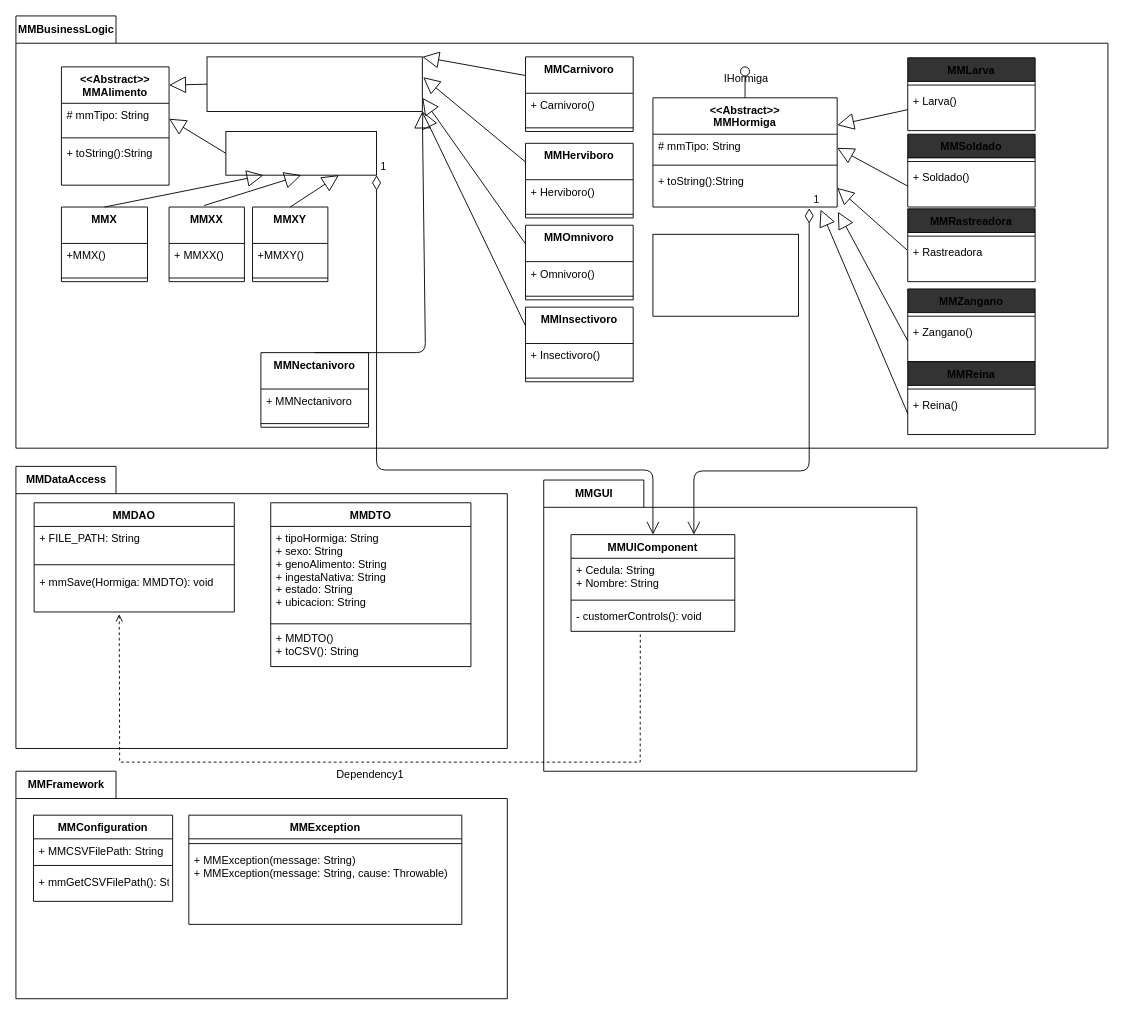
Image size: 1124x1015. Some labels were removed from this diagram. Each missing label, with the centre of its shape:
"<<Abstract>> MMGenoAlimento" belongs at point (301, 153).
"<<Abstract>> MMIngestaNativa" belongs at point (314, 83).
"<<Interface>> MMIHormiga + comer(Alimento): boolean" belongs at point (725, 274).
